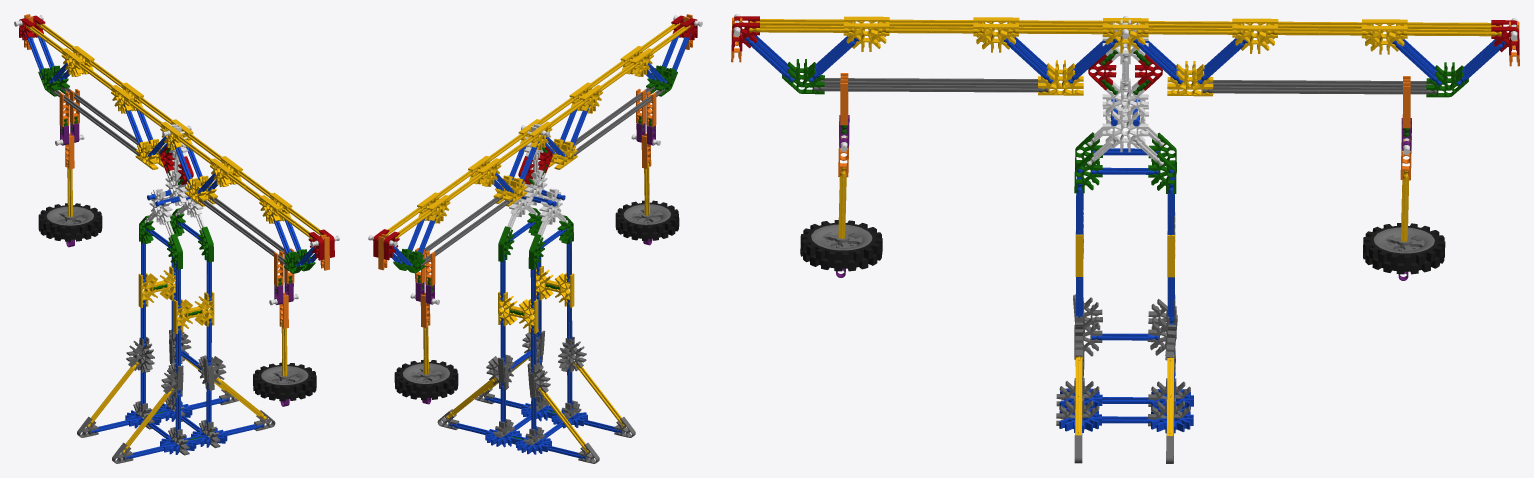
3 renders of one model, left to right at view 1: azimuth 30°, elevation 25°; view 2: azimuth 150°, elevation 25°; view 3: azimuth 270°, elevation 25°, orthographic. The views are drawn at different scales.
Parts seen in each view (by area): view 1: P3_L03.003, P3_L03.002, P3_L03.001, P3_L03.010, P3_L03.004, P3_L03.005, P3_L03.007, P3_L03.006, P3_L03.008; view 2: P3_L03.003, P3_L03.001, P3_L03.002, P3_L03.010, P3_L03.004, P3_L03.005, P3_L03.007, P3_L03.006, P3_L03.008; view 3: P3_L03.003, P3_L03.002, P3_L03.001, P3_L03.010, P3_L03.004, P3_L03.005, P3_L03.006, P3_L03.007.
Part boxes in pixels (box(x1,y1,x2,y2)): P3_L03.003: box(26, 23, 322, 453); P3_L03.002: box(46, 86, 308, 463); P3_L03.001: box(24, 31, 316, 459); P3_L03.010: box(38, 203, 316, 401); P3_L03.004: box(38, 65, 315, 440); P3_L03.005: box(14, 15, 339, 305); P3_L03.007: box(24, 14, 329, 328); P3_L03.006: box(19, 15, 334, 260); P3_L03.008: box(60, 123, 293, 406); P3_L03.003: box(386, 23, 690, 452); P3_L03.001: box(392, 31, 691, 459); P3_L03.002: box(402, 86, 670, 463); P3_L03.010: box(394, 200, 679, 400); P3_L03.004: box(393, 65, 677, 439); P3_L03.005: box(368, 15, 702, 304); P3_L03.007: box(378, 14, 692, 327); P3_L03.006: box(373, 15, 697, 260); P3_L03.008: box(415, 123, 655, 404); P3_L03.003: box(749, 16, 1501, 435); P3_L03.002: box(811, 78, 1436, 463); P3_L03.001: box(744, 33, 1506, 435); P3_L03.010: box(800, 220, 1445, 274); P3_L03.004: box(782, 50, 1468, 193); P3_L03.005: box(733, 14, 1517, 165); P3_L03.006: box(732, 16, 1519, 90); P3_L03.007: box(731, 17, 1519, 180).
Bounding box in the file's own units: 1.94 × 3.53 × 6.38.
